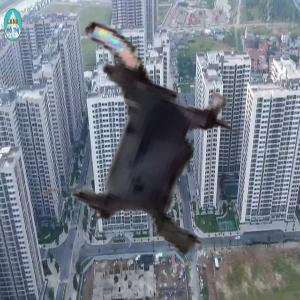drone: (23, 25, 268, 270)
